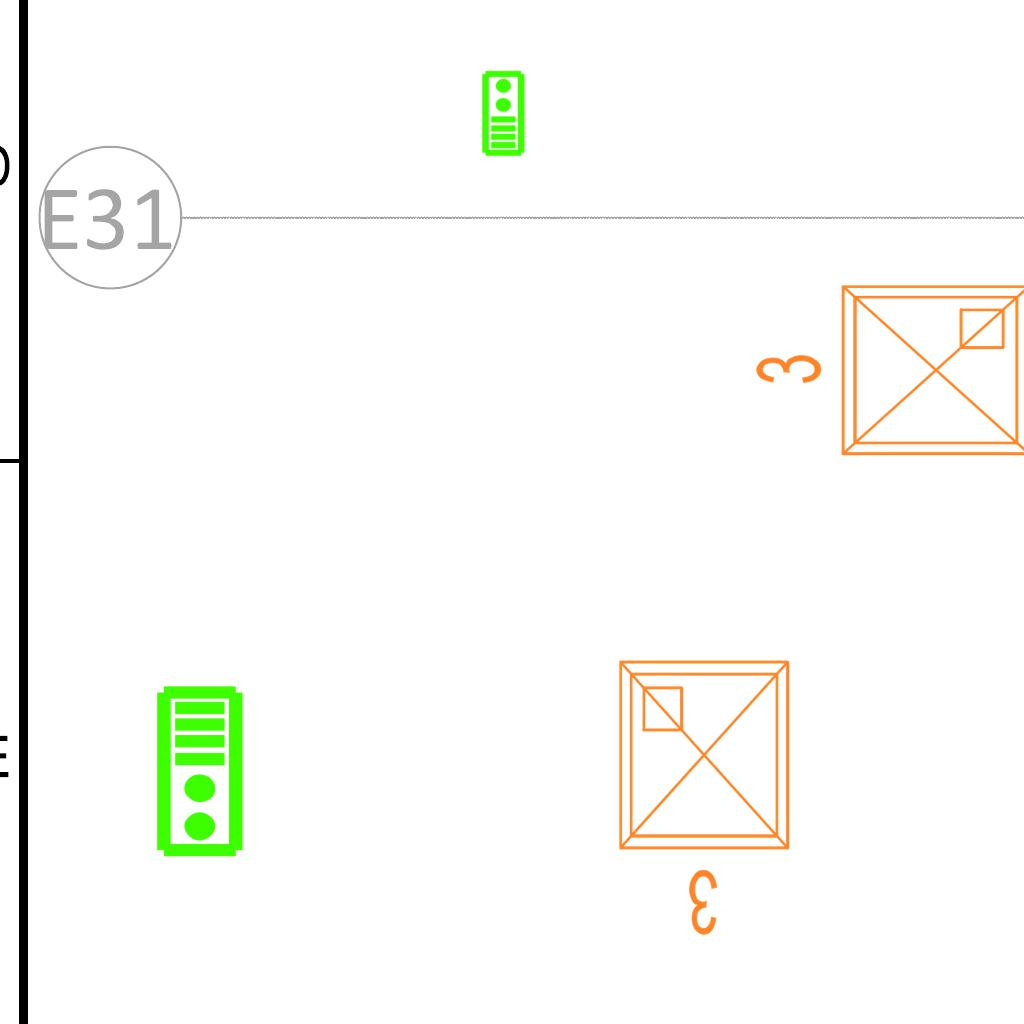Einbaudownlights_LED_Konferenzraeume: (604, 646, 812, 946), (745, 270, 1024, 478)
Gegensprechanlage_mit_Video: (154, 684, 249, 860), (479, 69, 526, 157)
